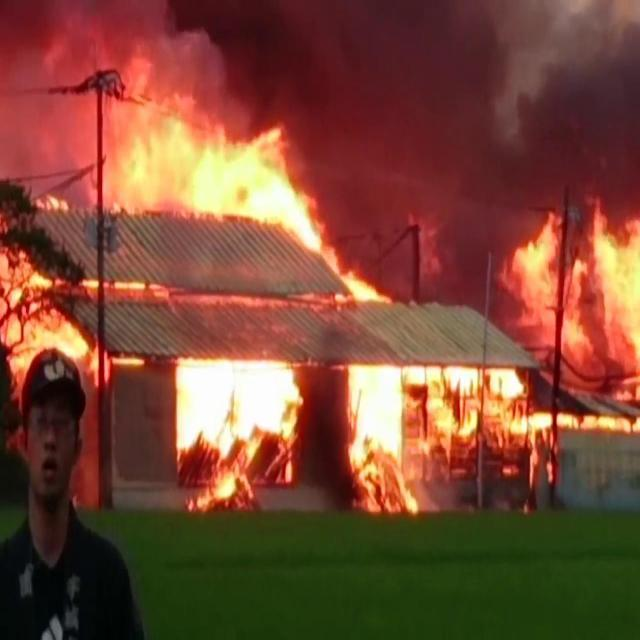Fire: (41, 44, 322, 254), (510, 191, 639, 432), (348, 362, 539, 517), (176, 352, 304, 518), (0, 250, 143, 386), (344, 270, 391, 305), (36, 192, 72, 212)
